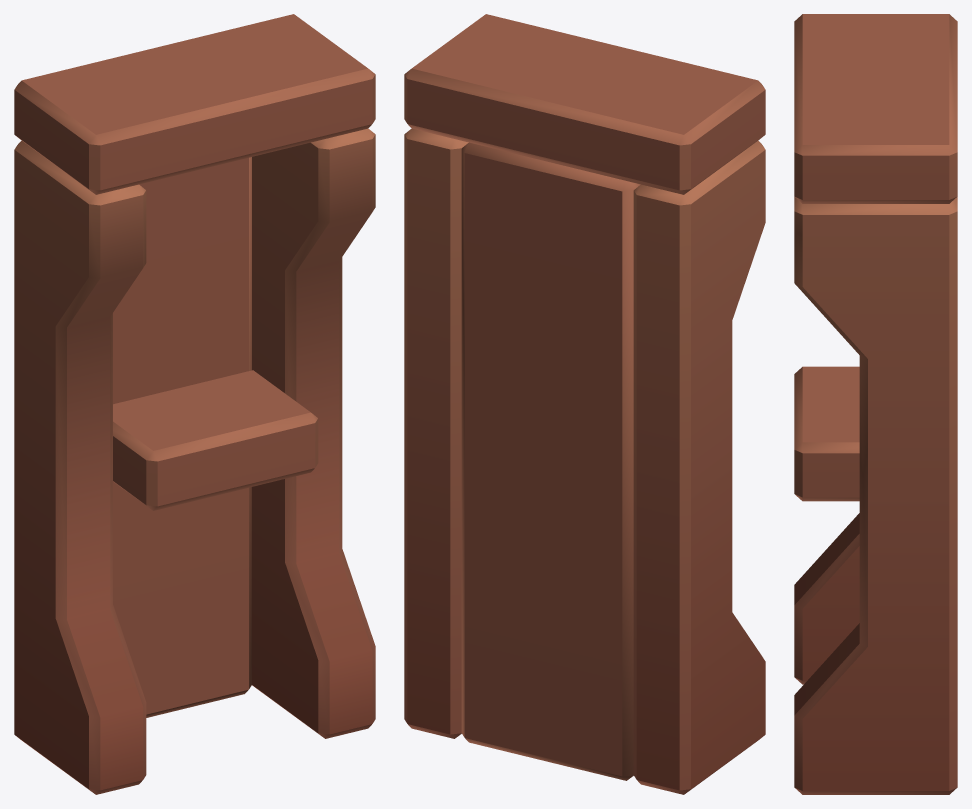
File: bartop_A_small.glb
The picture shows the model from 3 angles, left to right: view 1: azimuth 30°, elevation 25°; view 2: azimuth 150°, elevation 25°; view 3: azimuth 270°, elevation 25°; orthographic projection.
Visible parts, largest first — view 1: bartop_A_small; view 2: bartop_A_small; view 3: bartop_A_small.
Boxes of the visible parts, <box> form: bartop_A_small: <box>14,14,375,794</box>; bartop_A_small: <box>404,14,765,794</box>; bartop_A_small: <box>794,14,957,794</box>.
Bounding box in the file's own units: 1 × 2.2 × 0.5.
1 material, 1 textured.
